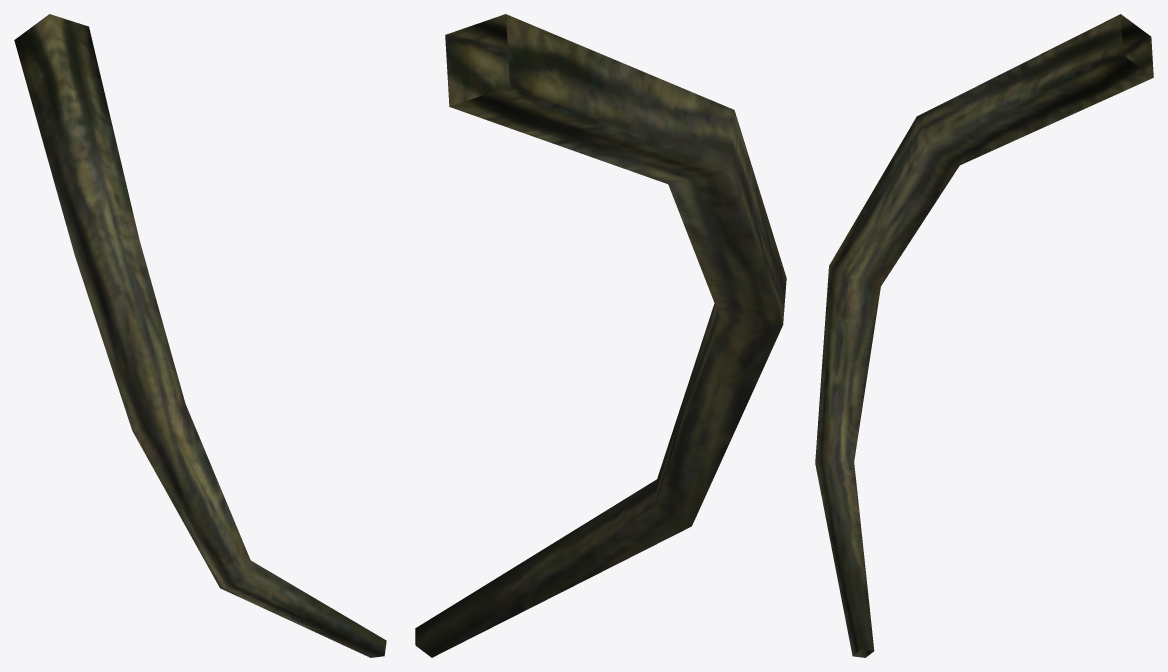
File: OVERHILL_A_01_LINE338.fbx
The picture shows the model from 3 angles, left to right: view 1: azimuth 30°, elevation 25°; view 2: azimuth 150°, elevation 25°; view 3: azimuth 270°, elevation 25°; orthographic projection. The views are drawn at different scales.
Parts seen in each view (by area): view 1: OVERHILL_A_01_LINE338; view 2: OVERHILL_A_01_LINE338; view 3: OVERHILL_A_01_LINE338.
Boxes of the visible parts, x1,y1,x2,y2 form: OVERHILL_A_01_LINE338: (14, 14, 386, 657); OVERHILL_A_01_LINE338: (415, 14, 786, 657); OVERHILL_A_01_LINE338: (815, 14, 1153, 657).
Size of the model in its own units: 5610 by 11917 by 6553.
1 material, 1 textured.
